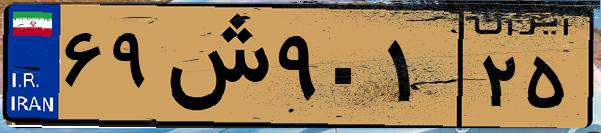0: (330, 28, 385, 110)
1: (385, 28, 445, 110)
2: (475, 38, 525, 113)
5: (525, 38, 570, 115)
6: (57, 26, 110, 100)
9: (270, 28, 330, 110), (110, 28, 158, 98)
ش: (158, 12, 270, 120)
